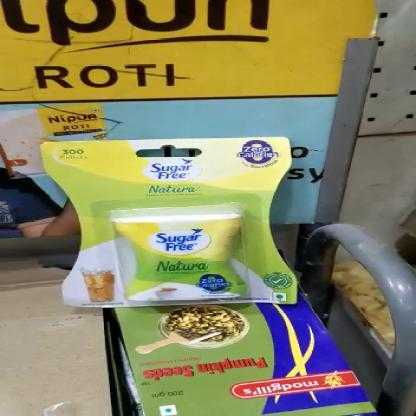SUGAR FREE NATURA 500 PELLET: (39, 138, 297, 308)
